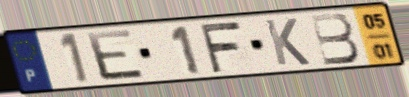1: (58, 31, 92, 85), (169, 25, 202, 76)
B: (307, 11, 363, 67)
E: (83, 27, 149, 83)
F: (196, 19, 244, 75)
K: (261, 17, 313, 67)
